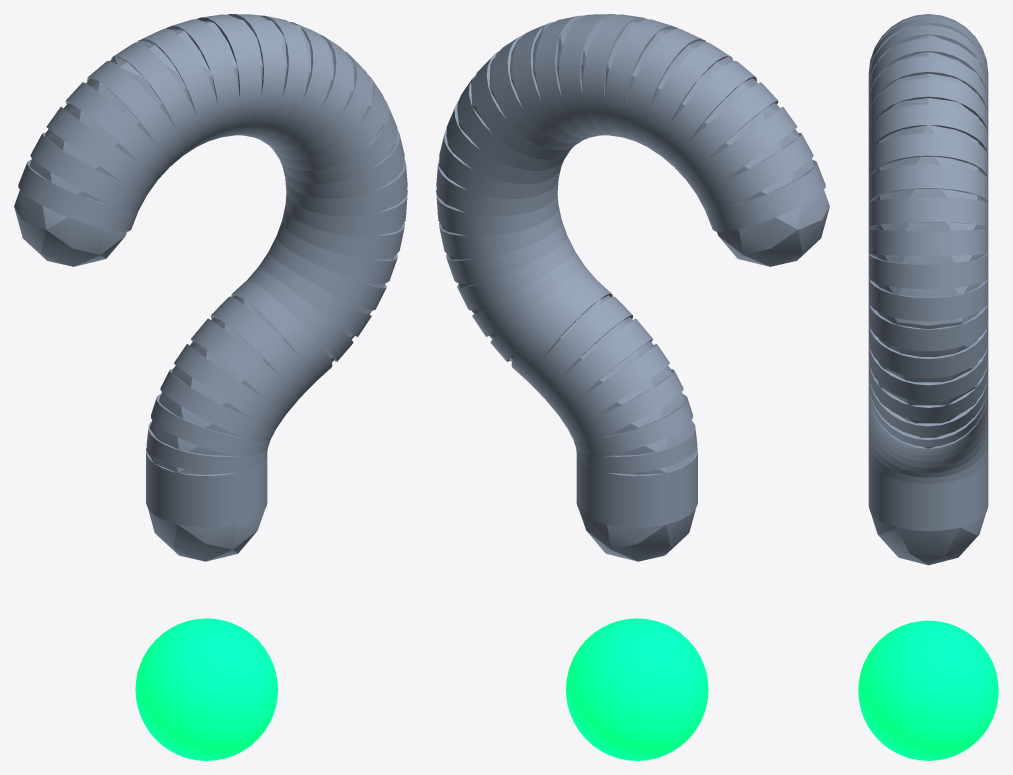
File: unknown.glb
3 renders of one model, left to right at view 1: azimuth 30°, elevation 25°; view 2: azimuth 150°, elevation 25°; view 3: azimuth 270°, elevation 25°, orthographic.
Parts seen in each view (by area): view 1: body, status; view 2: body, status; view 3: body, status.
Boxes of the visible parts, x1,y1,x2,y2 form: body: [14, 14, 407, 561]; status: [135, 618, 277, 760]; body: [436, 14, 829, 561]; status: [566, 618, 708, 760]; body: [868, 14, 988, 565]; status: [858, 620, 998, 760].
Size of the model in its own units: 0.5407 by 1 by 0.1769.
